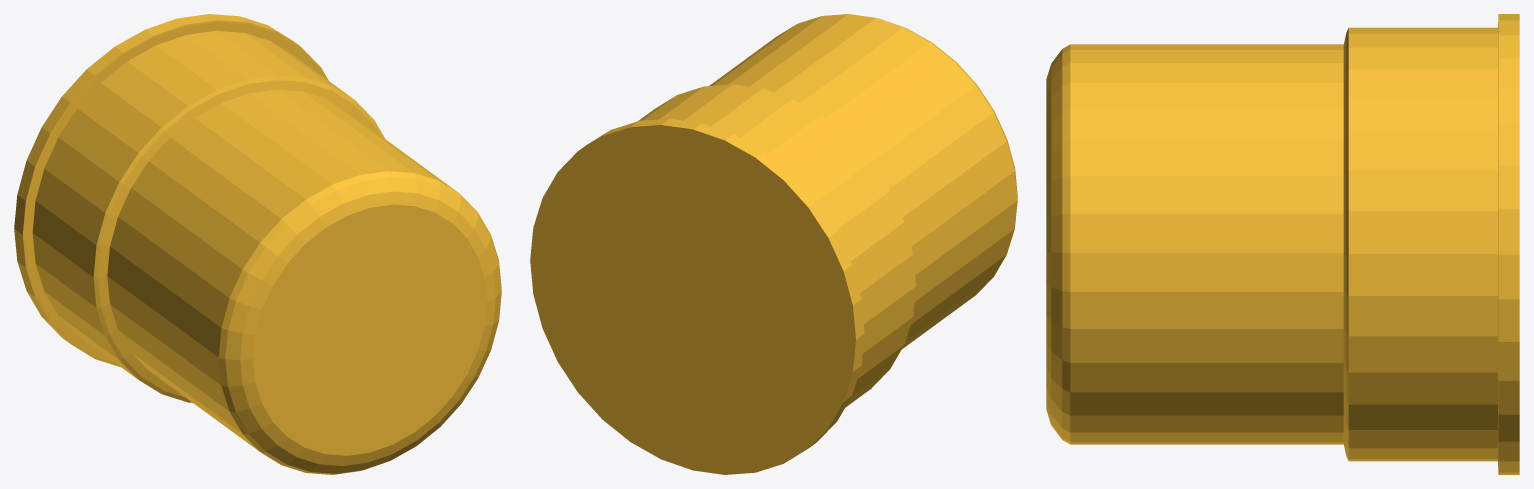
Rendered from SafetyLight.dae.
3 views of the same model, side by side, from view 1: azimuth 30°, elevation 25°; view 2: azimuth 150°, elevation 25°; view 3: azimuth 270°, elevation 25° (orthographic). The views are drawn at different scales.
Visible parts, largest first — view 1: SafetyLightDesign; view 2: SafetyLightDesign; view 3: SafetyLightDesign.
Boxes of the visible parts, x1,y1,x2,y2 form: SafetyLightDesign: (14,14,501,474); SafetyLightDesign: (530,14,1017,474); SafetyLightDesign: (1046,14,1519,474).
Bounding box in the file's own units: 0.12 × 0.123 × 0.12.
